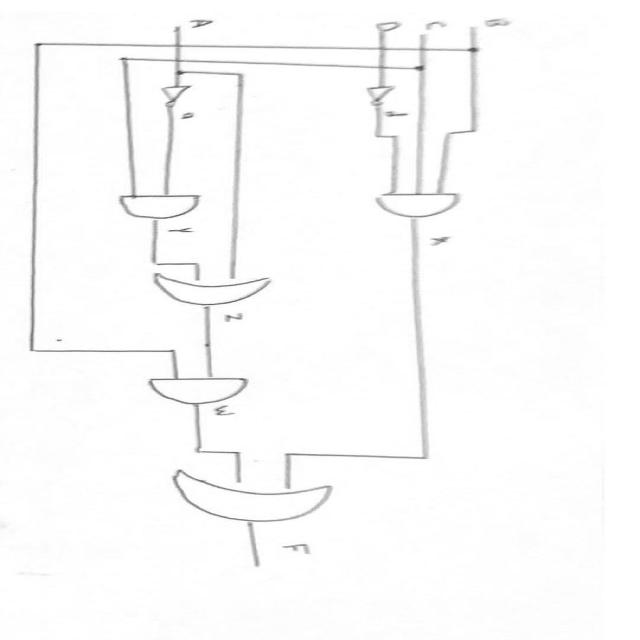AND: (125, 367, 272, 407), (362, 182, 479, 222), (104, 186, 208, 224)
NOT: (151, 79, 207, 109), (352, 79, 402, 105)
OR: (151, 467, 350, 529), (130, 268, 290, 309)
